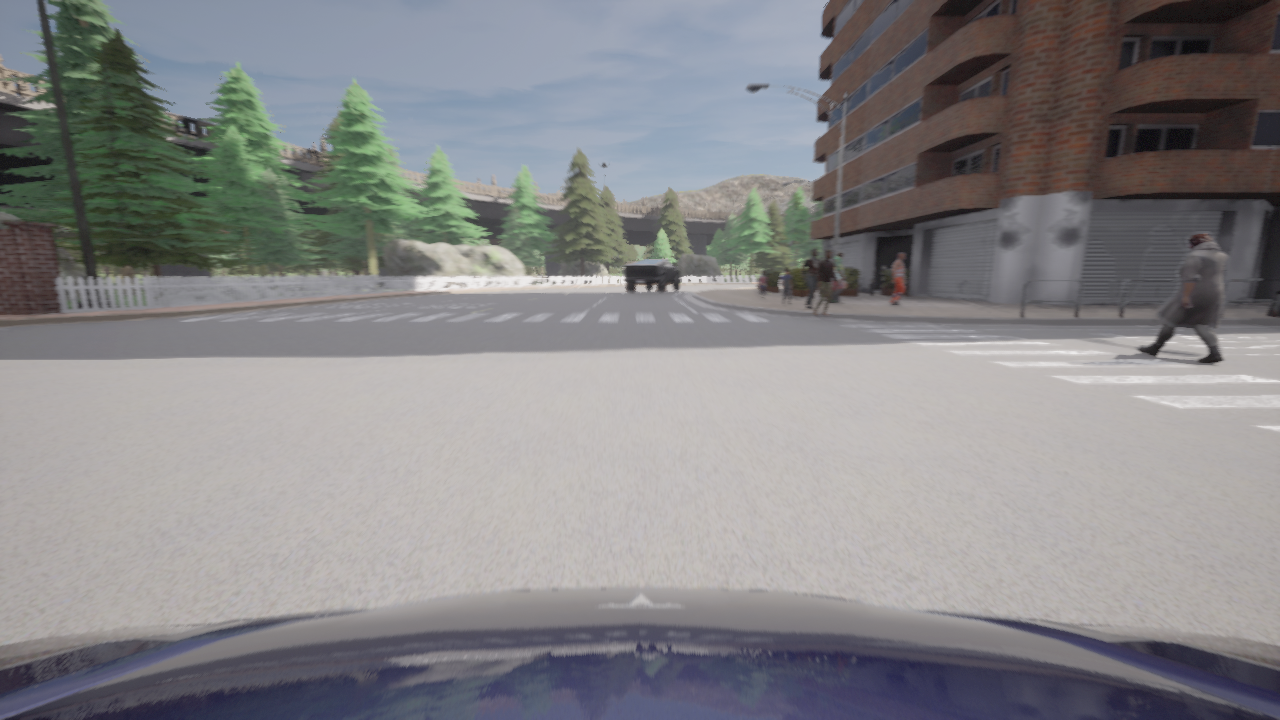cyclist: (0, 588, 1279, 719), (624, 259, 680, 292)
pedestrian: (1138, 233, 1227, 363), (813, 249, 837, 316), (802, 249, 820, 309), (889, 253, 905, 306), (830, 252, 846, 304), (781, 269, 791, 305), (757, 271, 767, 300)
